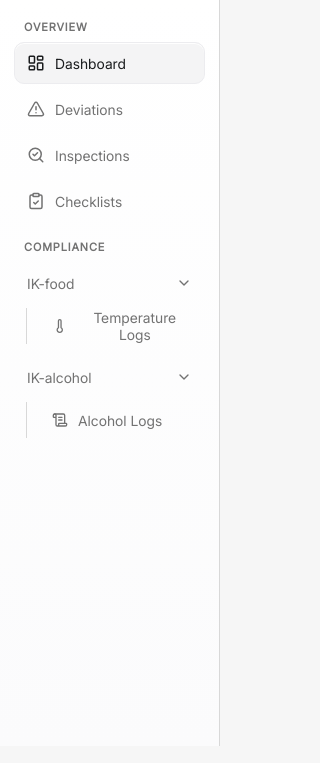
Test: Sidebar › hides settings for non-admin users and toggles compliance groups
This screenshot has width=320, height=763.
Click the button "IK-food" at point(110, 283), box [14, 262, 205, 304]
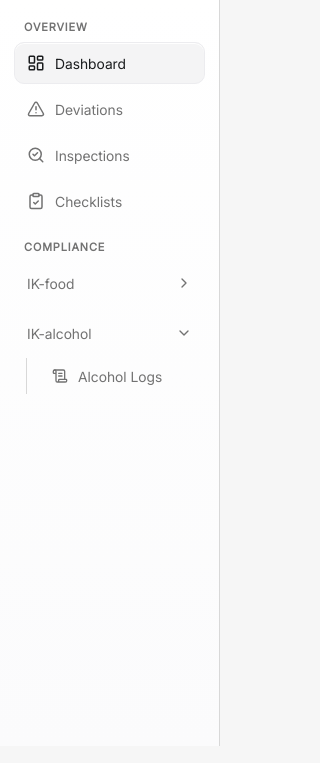
Expected: the text "Temperature Logs" is gone
Click the button "IK-food" at point(110, 283), box [14, 262, 205, 304]
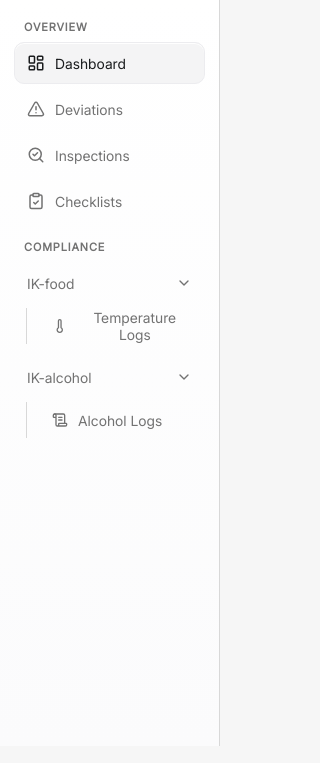
Expected: the text "Temperature Logs" is shown, [93, 309, 176, 343]
